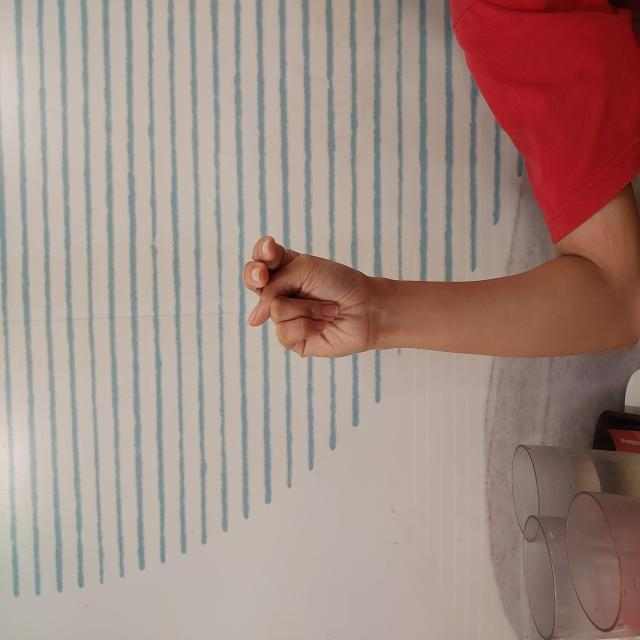N: (280, 240, 406, 372)
